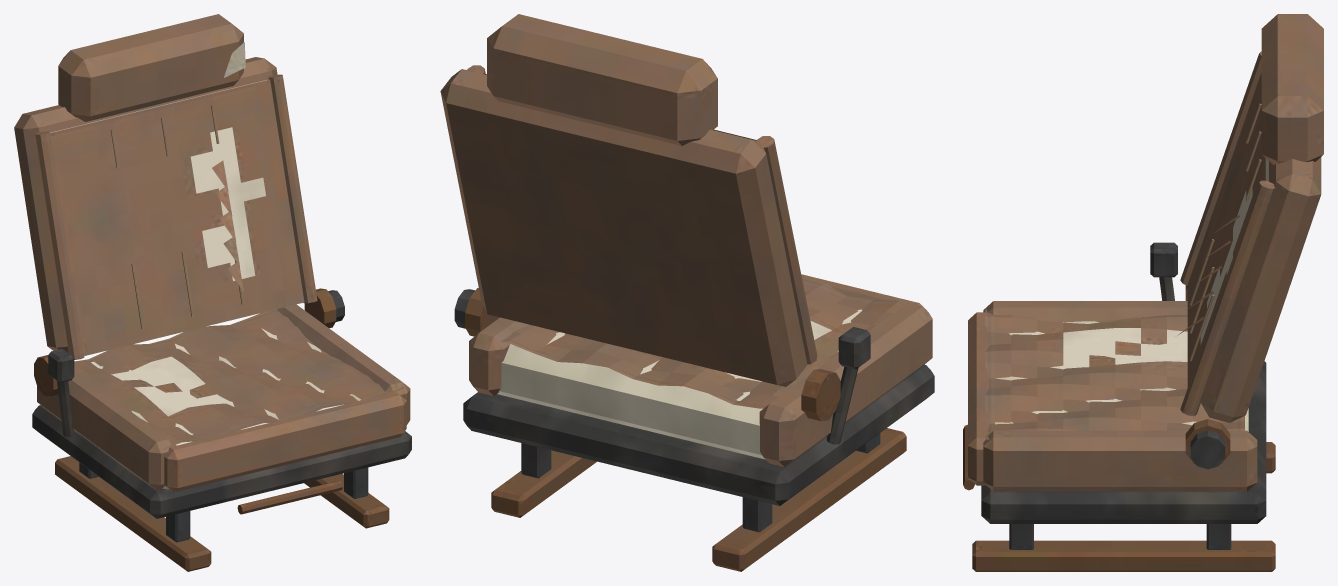
Rendered from JV18_torn_car_seats_v2.glb.
3 views of the same model, side by side, from view 1: azimuth 30°, elevation 25°; view 2: azimuth 150°, elevation 25°; view 3: azimuth 270°, elevation 25° (orthographic). The views are drawn at different scales.
Visible parts, largest first — view 1: Rusty floor runner; view 2: Rusty floor runner; view 3: Rusty floor runner.
Part boxes in pixels (x1,y1,x2,y2): Rusty floor runner: [14, 14, 411, 571]; Rusty floor runner: [440, 14, 934, 571]; Rusty floor runner: [963, 14, 1323, 571].
Bounding box in the file's own units: 0.545 × 0.7 × 0.4935.
7 materials, 7 textured.
